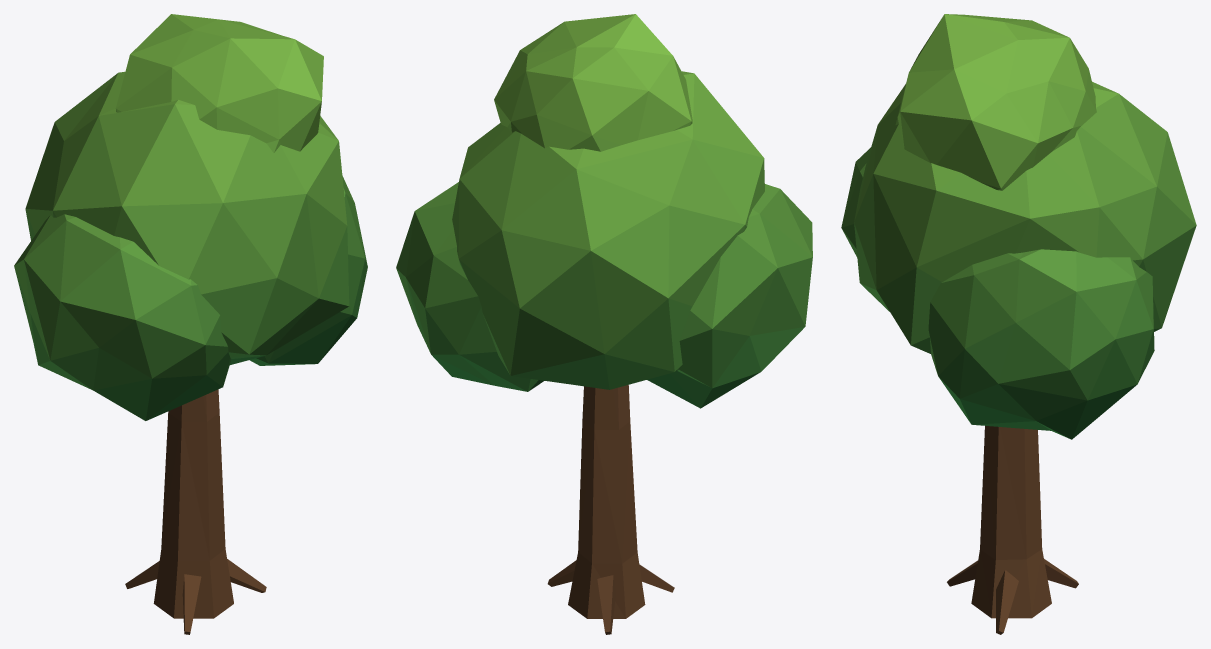
The model's file is Prop_Tree.fbx.
3 renders of one model, left to right at view 1: azimuth 30°, elevation 25°; view 2: azimuth 150°, elevation 25°; view 3: azimuth 270°, elevation 25°, orthographic. The views are drawn at different scales.
Parts seen in each view (by area): view 1: Body; view 2: Body; view 3: Body.
Boxes of the visible parts, bbox=[...] form: Body: bbox=[14, 14, 367, 634]; Body: bbox=[396, 14, 812, 634]; Body: bbox=[841, 14, 1196, 634].
Bounding box in the file's own units: 8.39 × 12.95 × 7.05.
